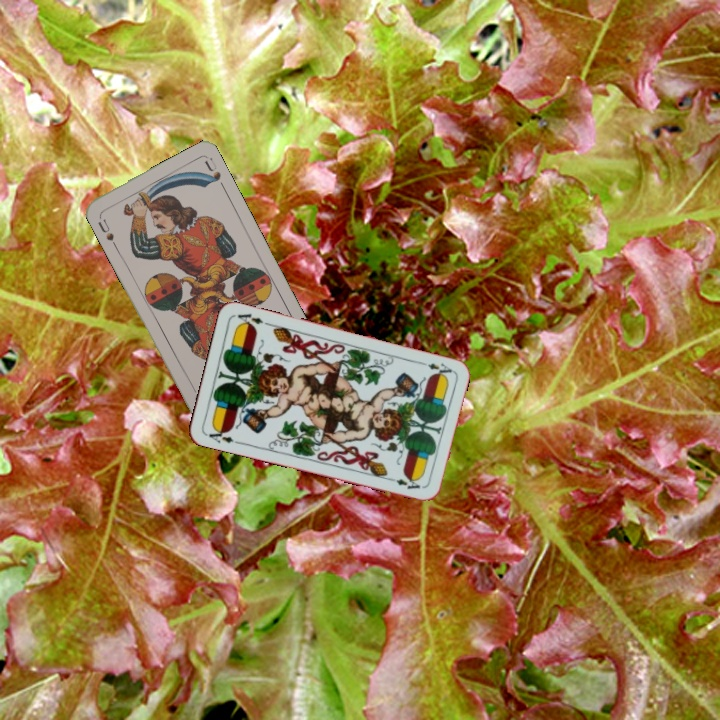EA: (205, 424, 242, 447), (415, 357, 455, 378)
SU: (94, 215, 117, 244)
